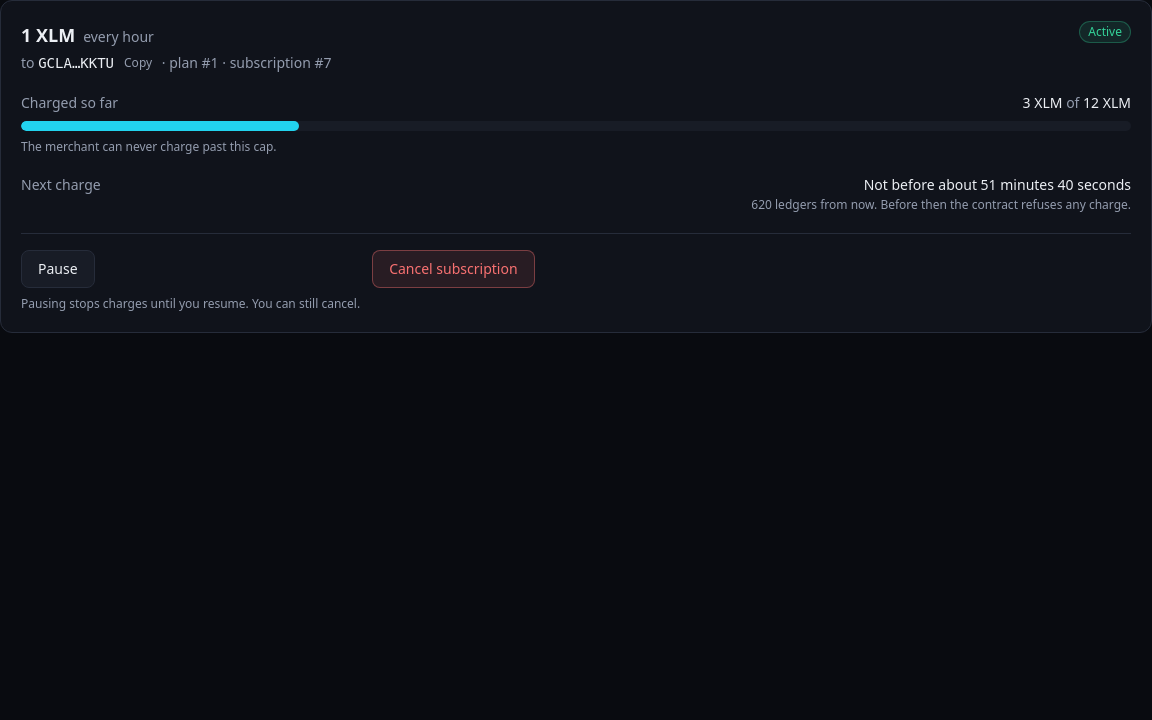
it: SubscriptionCard › states plainly that no further charges can occur before cancelling
Click the button "Cancel subscription" at (453, 269), box [372,250,534,288]
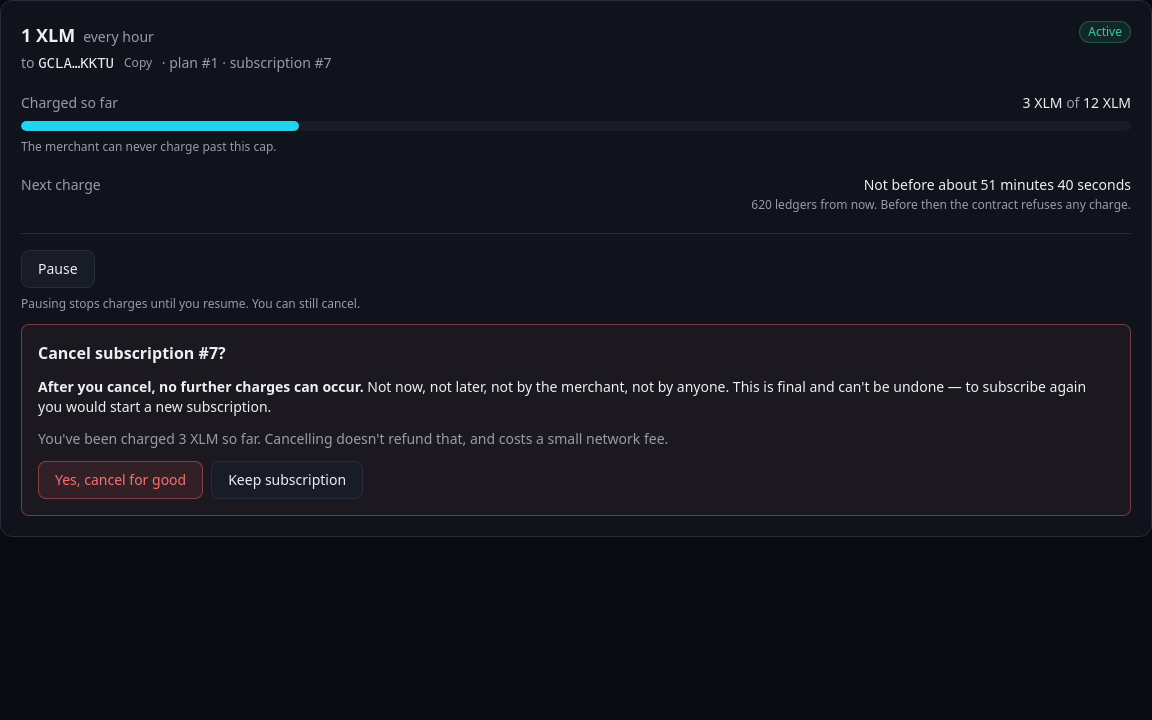
Now the dialog shows "After you cancel, no further charges can occur.", box [38,377,364,396]
Now the dialog shows "final and can't be undone", box [38,377,1086,416]
